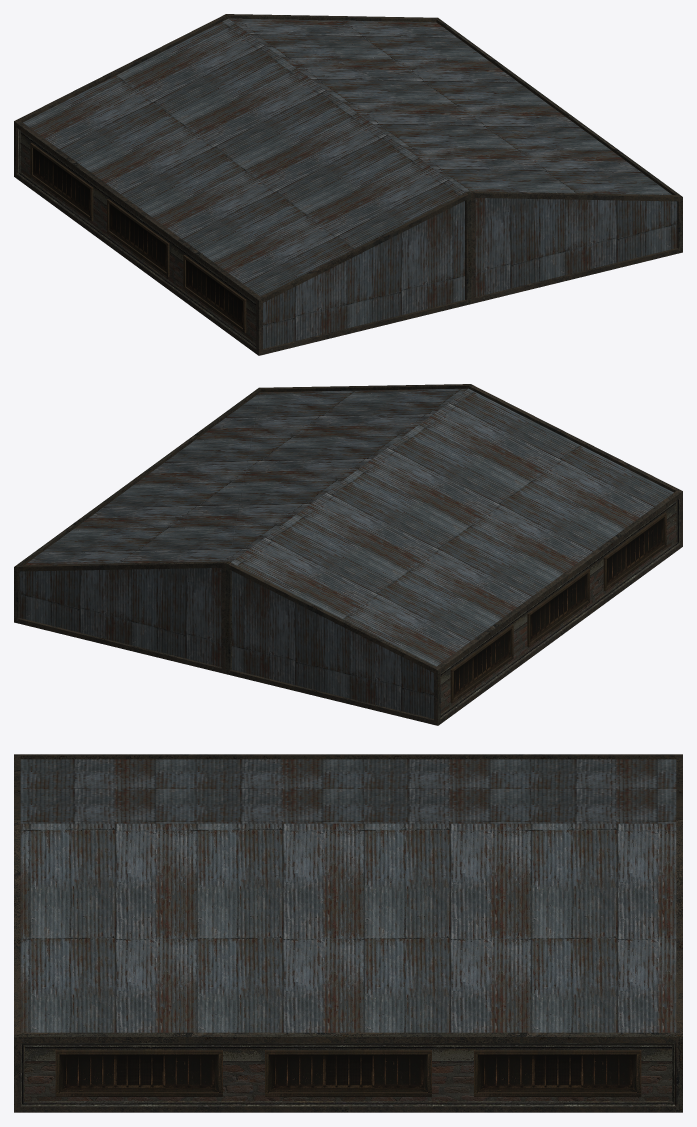
The model's file is roof_mh_4_a_2.obj.
3 views of the same model, one above another, from view 1: azimuth 30°, elevation 25°; view 2: azimuth 150°, elevation 25°; view 3: azimuth 270°, elevation 25° (orthographic). The views are drawn at different scales.
Parts seen in each view (by area): view 1: roof_mh_4_a_2; view 2: roof_mh_4_a_2; view 3: roof_mh_4_a_2.
Boxes of the visible parts, box(x1,y1,x2,y2) form: roof_mh_4_a_2: box(14, 14, 682, 355); roof_mh_4_a_2: box(14, 384, 682, 725); roof_mh_4_a_2: box(14, 754, 682, 1112).
Bounding box in the file's own units: 8 × 2 × 8.
